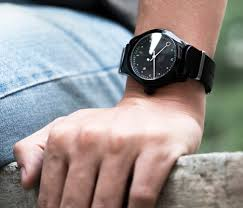clock: (131, 33, 177, 81)
